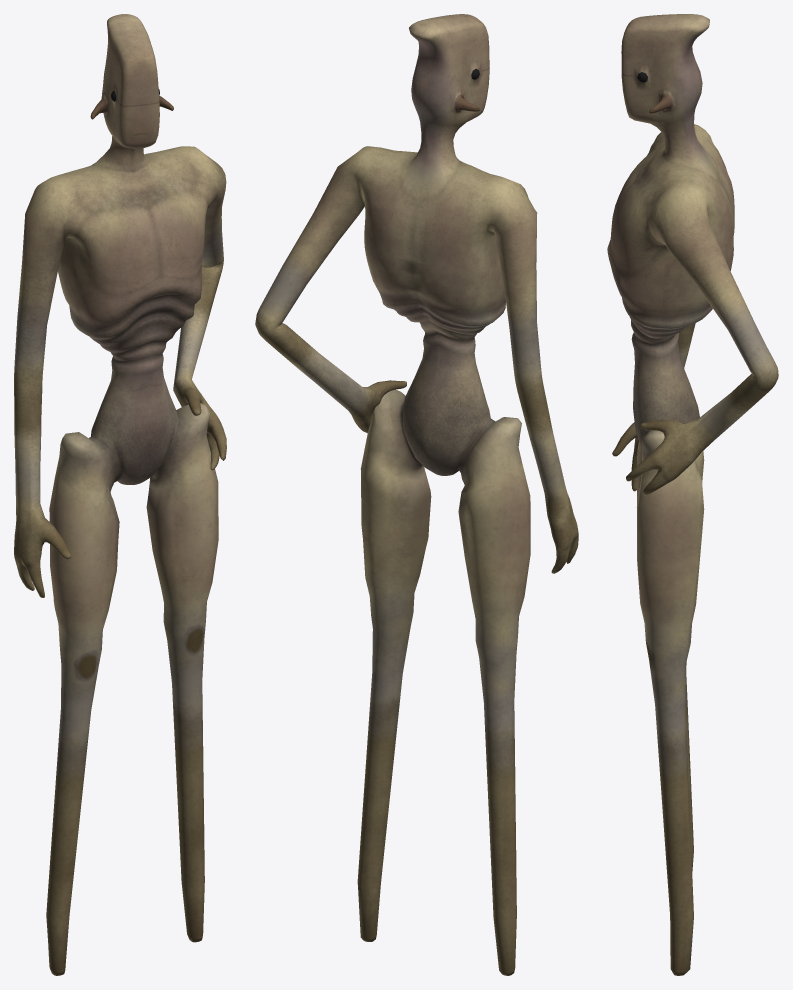
Rendered from roy._kenshi.glb.
The picture shows the model from 3 angles, left to right: view 1: azimuth 30°, elevation 25°; view 2: azimuth 150°, elevation 25°; view 3: azimuth 270°, elevation 25°; orthographic projection.
Bounding box in the file's own units: 0.5247 × 1.81 × 0.3031.
Materials: 1 (1 with a texture image).
